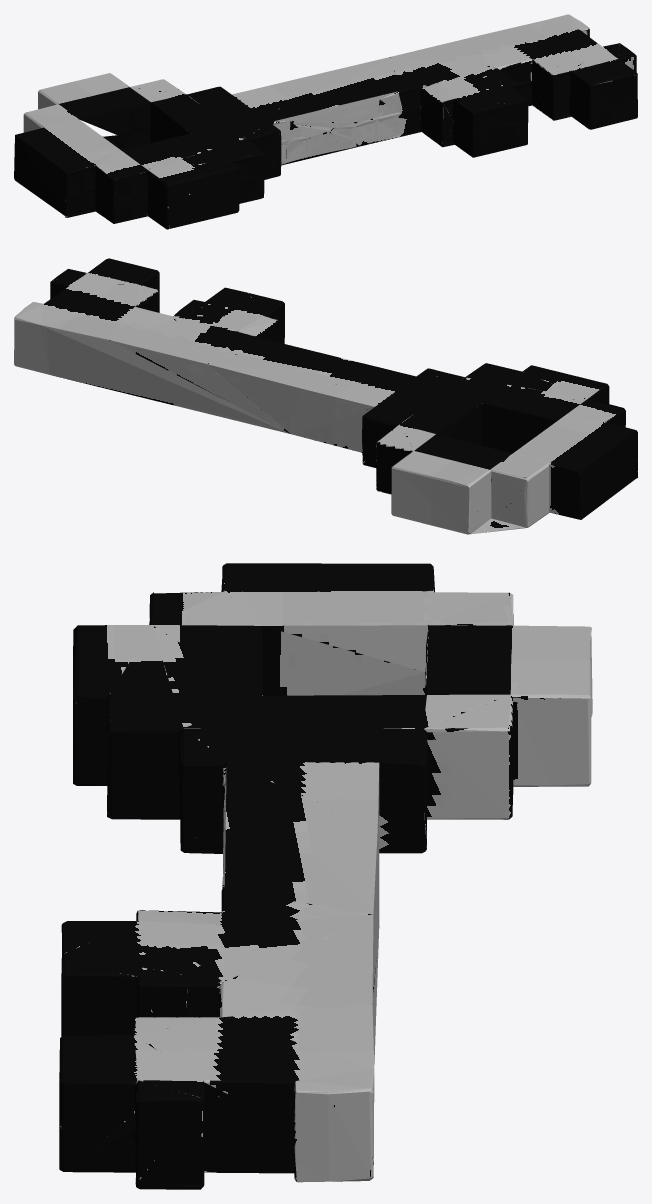
3 views of the same model, one above another, from view 1: azimuth 30°, elevation 25°; view 2: azimuth 150°, elevation 25°; view 3: azimuth 270°, elevation 25° (orthographic). The views are drawn at different scales.
Visible parts, largest first — view 1: OBJ106; view 2: OBJ106; view 3: OBJ106.
Boxes of the visible parts, <box> form: OBJ106: <box>14,14,637,229</box>; OBJ106: <box>14,258,637,534</box>; OBJ106: <box>59,563,592,1189</box>.
Size of the model in its own units: 0.3041 by 0.0244 by 0.1277.
1 material, 1 textured.
